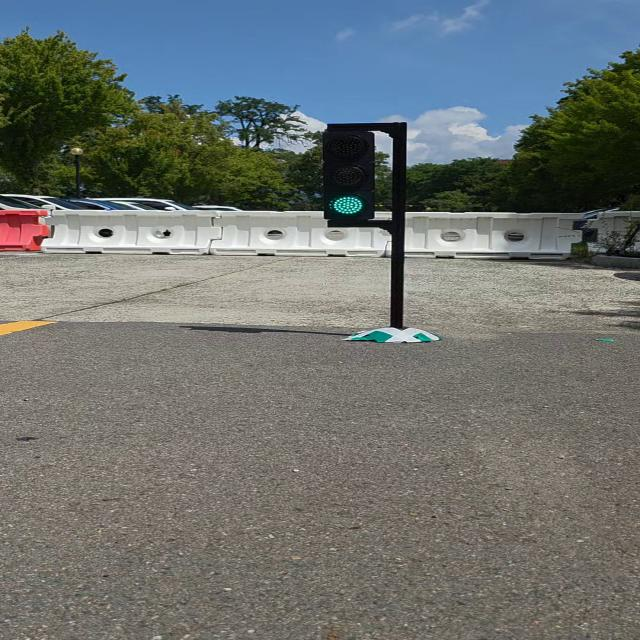green: (324, 135, 374, 226)
